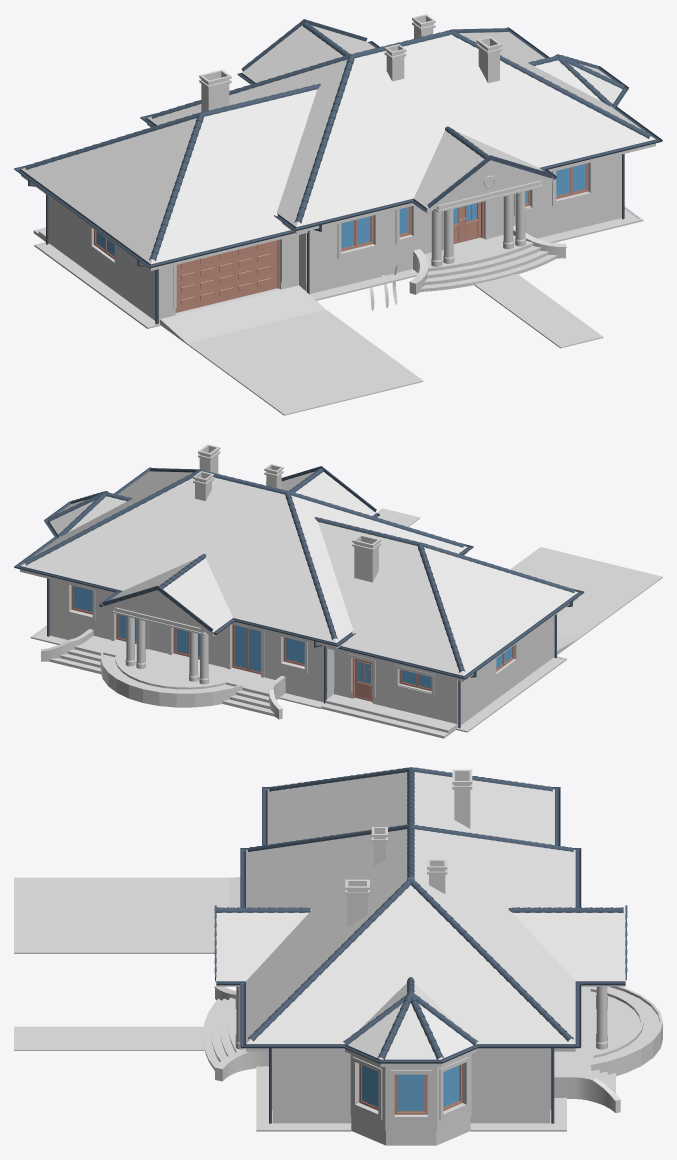
The model's file is 3D_House_03.fbx.
The picture shows the model from 3 angles, top to bottom: view 1: azimuth 30°, elevation 25°; view 2: azimuth 150°, elevation 25°; view 3: azimuth 270°, elevation 25°; orthographic projection. The views are drawn at different scales.
Parts seen in each view (by area): view 1: roof, roof.001, aroudn_house, walls_exterior, cover_roof.005, roof.002, garage_door, gutter.001, stairs, window.004, chimney, columns (+7 smaller); view 2: roof, roof.001, walls_exterior, aroudn_house, stairs, cover_roof.005, roof.002, window.004, gutter.001, flower_pot, chimney, modlings (+8 smaller); view 3: roof, aroudn_house, walls_exterior, roof.001, roof.002, cover_roof.005, stairs, gutter.001, roof.003, window.004, flower_pot, chimney (+5 smaller).
Boxes of the visible parts, box(x1,y1,x2,y2) form: roof: box(147, 32, 655, 226); roof.001: box(21, 89, 317, 264); aroudn_house: box(34, 206, 643, 415); walls_exterior: box(48, 154, 621, 325); cover_roof.005: box(25, 22, 651, 261); roof.002: box(242, 25, 552, 213); garage_door: box(175, 240, 277, 312); gutter.001: box(14, 27, 662, 324); stairs: box(33, 227, 557, 291); window.004: box(91, 163, 590, 263); chimney: box(199, 14, 502, 112); columns: box(431, 191, 525, 266); roof: box(20, 471, 467, 642); roof.001: box(318, 522, 577, 675); walls_exterior: box(49, 579, 554, 727); aroudn_house: box(30, 508, 662, 732); stairs: box(49, 635, 457, 738); cover_roof.005: box(24, 468, 574, 672); roof.002: box(103, 471, 375, 636); window.004: box(69, 585, 516, 693); gutter.001: box(14, 467, 584, 728); flower_pot: box(100, 651, 242, 707); chimney: box(193, 444, 380, 582); modlings: box(66, 583, 434, 697); roof: box(246, 829, 575, 1043); aroudn_house: box(14, 877, 566, 1131); walls_exterior: box(272, 1051, 551, 1145); roof.001: box(267, 772, 554, 845); roof.002: box(216, 909, 625, 986); cover_roof.005: box(216, 767, 623, 1059); stairs: box(202, 986, 640, 1093); gutter.001: box(216, 787, 625, 1123); roof.003: box(348, 983, 476, 1059); window.004: box(355, 1064, 466, 1117); flower_pot: box(590, 986, 662, 1076); chimney: box(345, 769, 472, 926).
Size of what is drawn, in the model's own units: 2479 by 920 by 2368.
